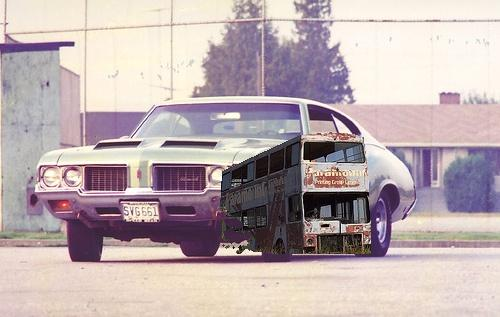tampered: (221, 133, 371, 254)
